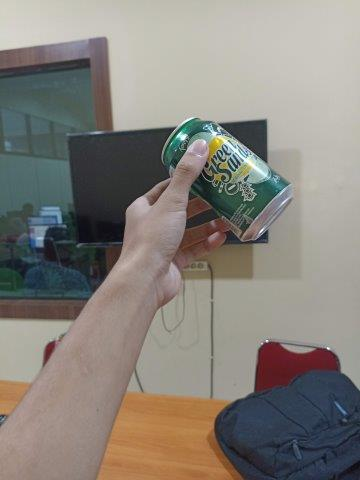kaleng: (161, 116, 294, 243)
